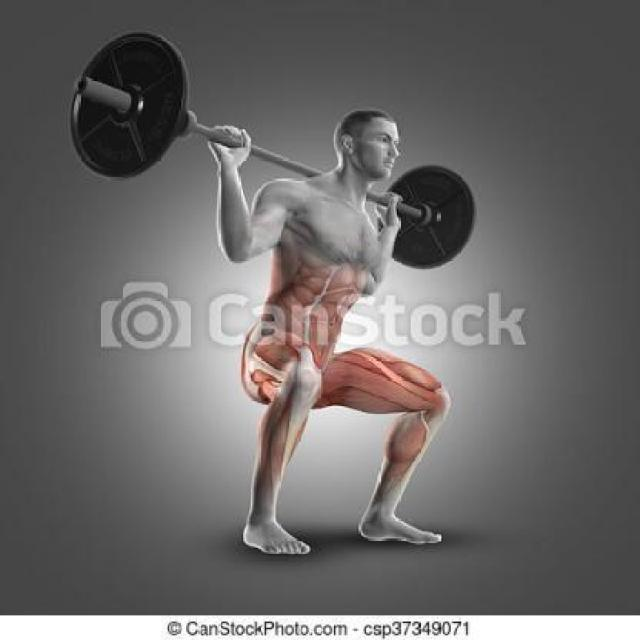barbell: (64, 32, 195, 181)
